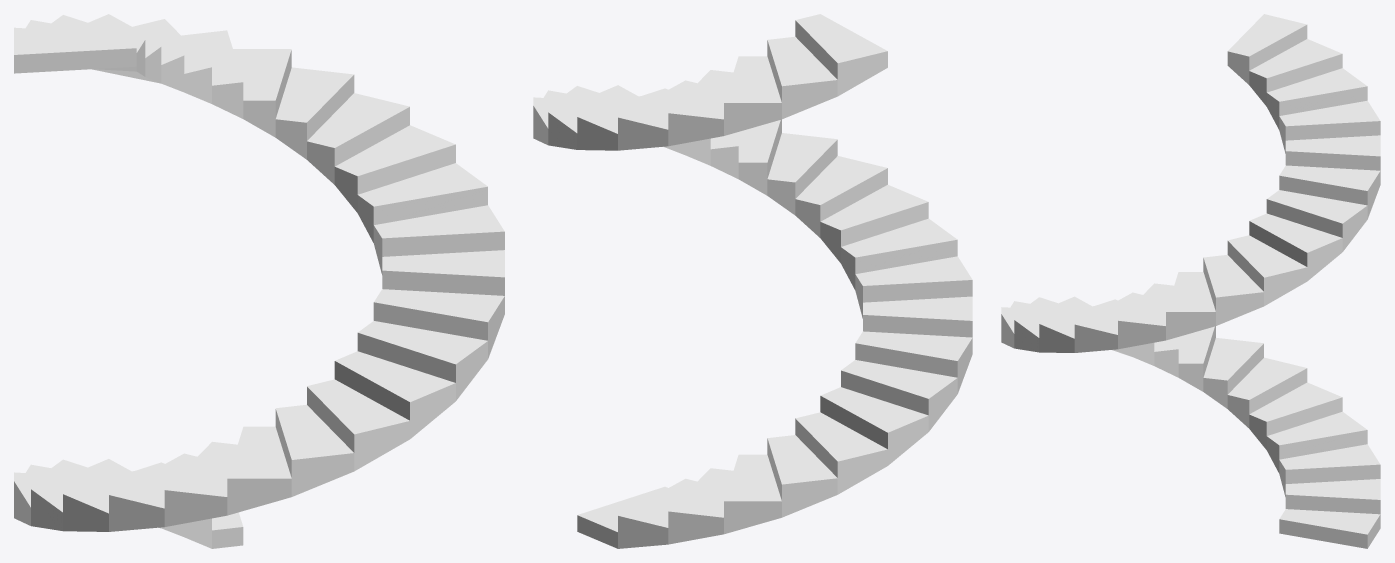
The model's file is SCU.glb.
3 views of the same model, side by side, from view 1: azimuth 30°, elevation 25°; view 2: azimuth 150°, elevation 25°; view 3: azimuth 270°, elevation 25° (orthographic). The views are drawn at different scales.
Parts seen in each view (by area): view 1: staircase up; view 2: staircase up; view 3: staircase up.
Part boxes in pixels (<box>): staircase up: <box>14,14,504,548</box>; staircase up: <box>533,14,972,548</box>; staircase up: <box>1001,14,1380,548</box>.
Size of the model in its own units: 6 by 7.5 by 6.
1 material, 1 textured.
